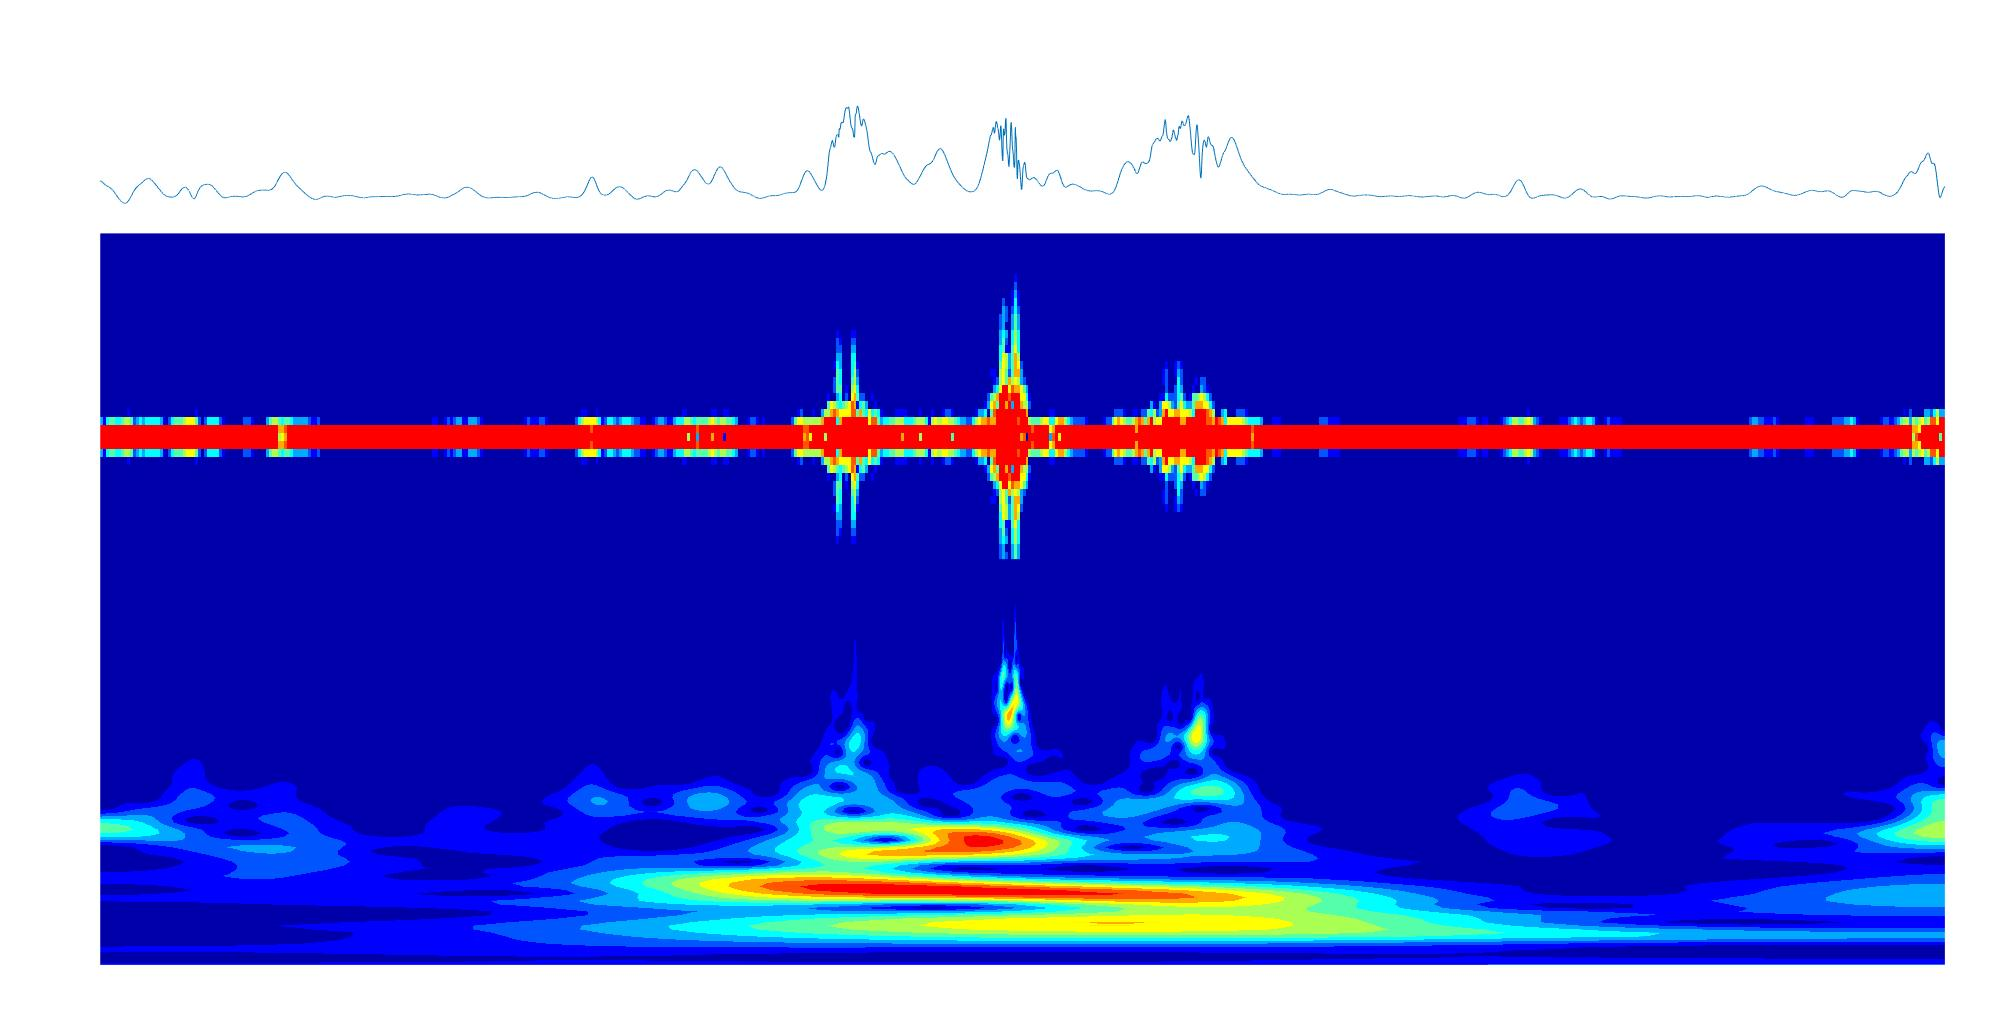TURBULENT: (979, 233, 1039, 965)
